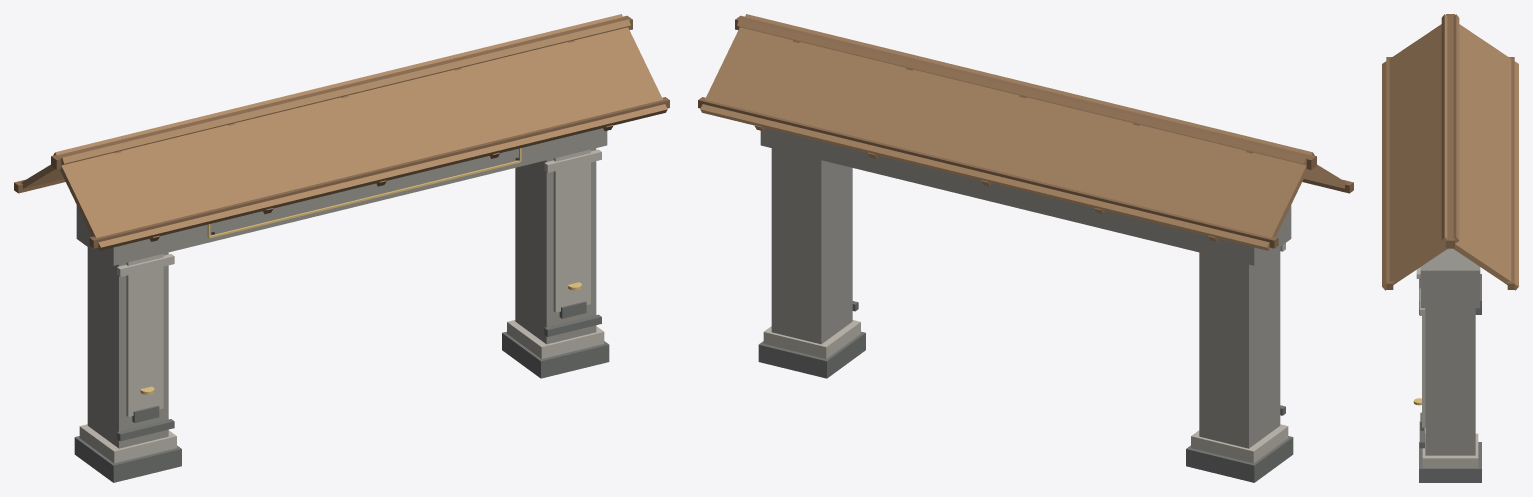
File: portal.glb
The picture shows the model from 3 angles, left to right: view 1: azimuth 30°, elevation 25°; view 2: azimuth 150°, elevation 25°; view 3: azimuth 270°, elevation 25°; orthographic projection. The views are drawn at different scales.
Parts seen in each view (by area): view 1: Telha_Direita, Viga_superior_monolitica, Pilar_monumental_Esquerdo, Pilar_monumental_Direito, Moldura_frontal_Esquerdo, Moldura_frontal_Direito, Telha_Esquerda, Beiral_Tras, Cumeeira, Fundacao_Direito, Fundacao_Esquerdo, Base_de_concreto_Esquerdo (+2 smaller); view 2: Telha_Esquerda, Pilar_monumental_Esquerdo, Pilar_monumental_Direito, Viga_superior_monolitica, Telha_Direita, Beiral_Frente, Cumeeira, Fundacao_Direito, Fundacao_Esquerdo, Base_de_concreto_Esquerdo, Base_de_concreto_Direito; view 3: Telha_Direita, Telha_Esquerda, Pilar_monumental_Direito, Viga_superior_monolitica, Cumeeira, Fundacao_Direito, Beiral_Frente, Beiral_Tras, Base_de_concreto_Direito, Moldura_frontal_Direito.
Part boxes in pixels (x1=…): Telha_Direita: x1=53, y1=14, x2=667, y2=250; Viga_superior_monolitica: x1=76, y1=128, x2=607, y2=265; Pilar_monumental_Esquerdo: x1=87, y1=247, x2=168, y2=448; Pilar_monumental_Direito: x1=515, y1=148, x2=596, y2=344; Moldura_frontal_Esquerdo: x1=126, y1=253, x2=163, y2=416; Moldura_frontal_Direito: x1=553, y1=149, x2=590, y2=312; Telha_Esquerda: x1=21, y1=19, x2=630, y2=188; Beiral_Tras: x1=89, y1=97, x2=669, y2=248; Cumeeira: x1=51, y1=15, x2=632, y2=169; Fundacao_Direito: x1=502, y1=331, x2=609, y2=378; Fundacao_Esquerdo: x1=74, y1=436, x2=181, y2=482; Base_de_concreto_Esquerdo: x1=79, y1=424, x2=176, y2=463; Telha_Esquerda: x1=700, y1=14, x2=1314, y2=250; Pilar_monumental_Esquerdo: x1=1199, y1=247, x2=1280, y2=448; Pilar_monumental_Direito: x1=771, y1=148, x2=852, y2=344; Viga_superior_monolitica: x1=760, y1=128, x2=1291, y2=265; Telha_Direita: x1=737, y1=19, x2=1346, y2=188; Beiral_Frente: x1=698, y1=97, x2=1278, y2=248; Cumeeira: x1=735, y1=15, x2=1316, y2=169; Fundacao_Direito: x1=758, y1=331, x2=865, y2=378; Fundacao_Esquerdo: x1=1186, y1=436, x2=1293, y2=482; Base_de_concreto_Esquerdo: x1=1191, y1=424, x2=1288, y2=463; Base_de_concreto_Direito: x1=763, y1=320, x2=860, y2=358; Telha_Direita: x1=1382, y1=14, x2=1459, y2=290; Telha_Esquerda: x1=1441, y1=14, x2=1518, y2=290; Pilar_monumental_Direito: x1=1425, y1=308, x2=1475, y2=455; Viga_superior_monolitica: x1=1420, y1=248, x2=1480, y2=308; Cumeeira: x1=1446, y1=14, x2=1454, y2=248; Fundacao_Direito: x1=1419, y1=442, x2=1481, y2=482; Beiral_Frente: x1=1507, y1=57, x2=1514, y2=289; Beiral_Tras: x1=1386, y1=57, x2=1393, y2=289; Base_de_concreto_Direito: x1=1422, y1=433, x2=1478, y2=467; Moldura_frontal_Direito: x1=1422, y1=308, x2=1425, y2=427.
Bounding box in the file's own units: 12.2 × 6.52 × 3.11.
